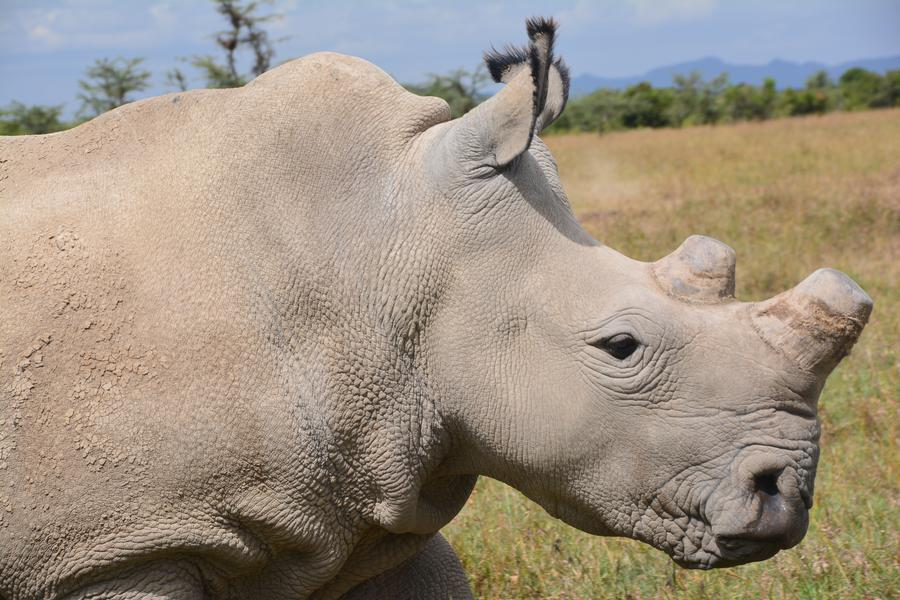rhino: (5, 34, 856, 566)
